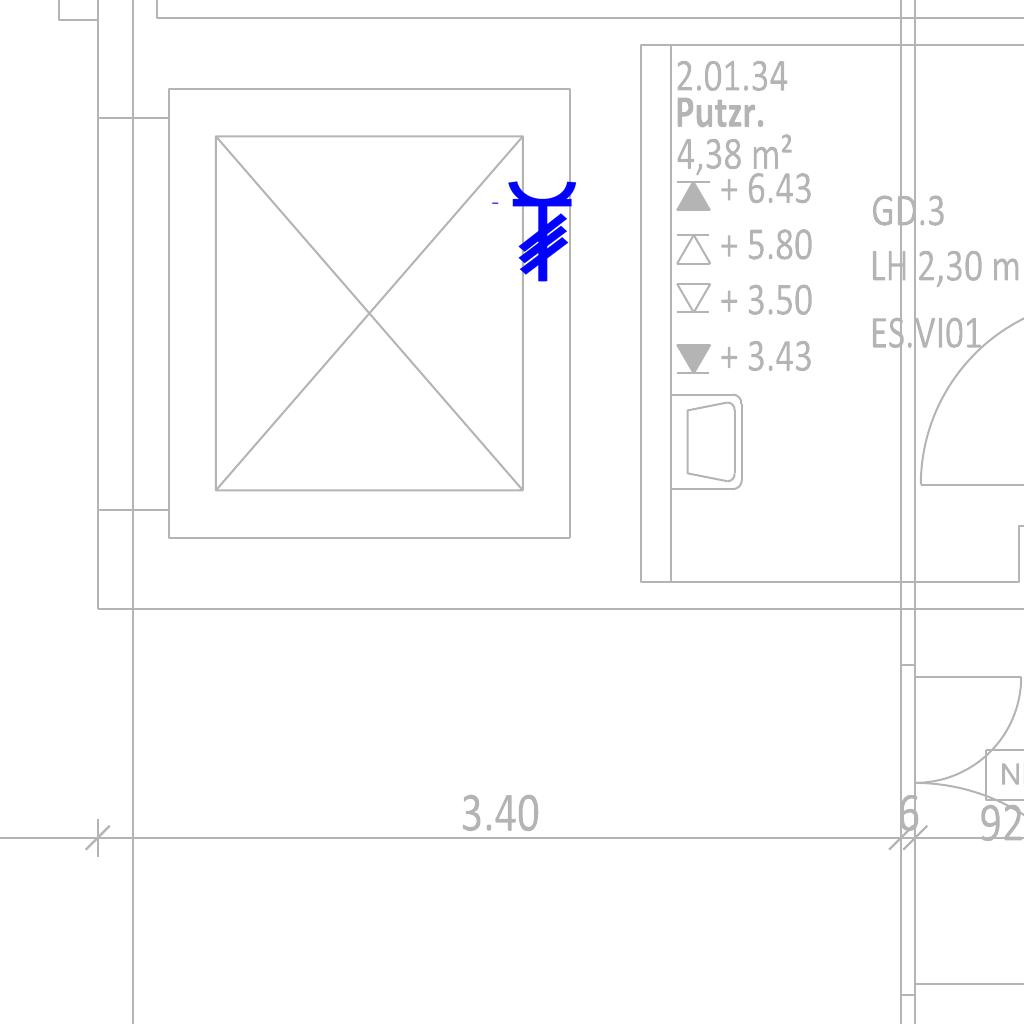CEE_Drehstrom_Steckdose_16_32_A: (489, 179, 579, 283)
